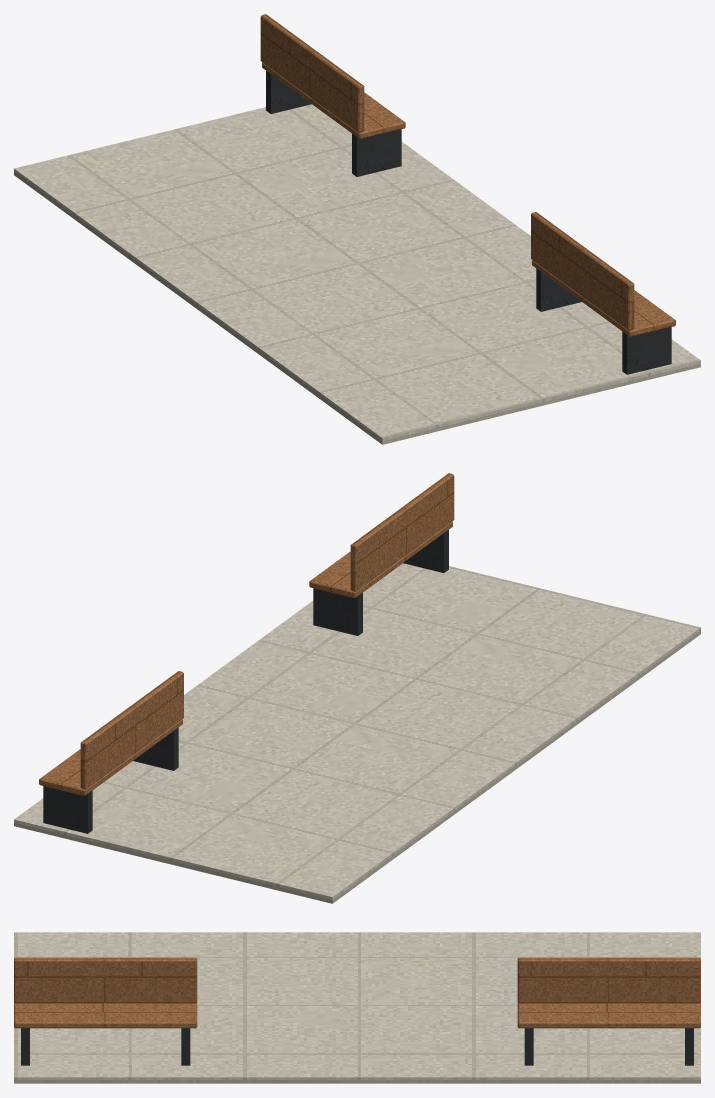
The model's file is sports_boxing.glb.
3 renders of one model, top to bottom at view 1: azimuth 30°, elevation 25°; view 2: azimuth 150°, elevation 25°; view 3: azimuth 270°, elevation 25°, orthographic. The views are drawn at different scales.
Parts seen in each view (by area): view 1: SBx_Apron, Bench0; view 2: SBx_Apron, Bench0; view 3: SBx_Apron, Bench0.
Boxes of the visible parts, left/top/right/bottom form: SBx_Apron: left=14, top=104, right=700, bottom=444; Bench0: left=260, top=14, right=675, bottom=374; SBx_Apron: left=14, top=563, right=700, bottom=903; Bench0: left=39, top=473, right=454, bottom=833; SBx_Apron: left=14, top=932, right=700, bottom=1083; Bench0: left=14, top=957, right=700, bottom=1065.
Size of what is drawn, in the model's own units: 3 by 0.9001 by 6.
3 materials, 3 textured.
